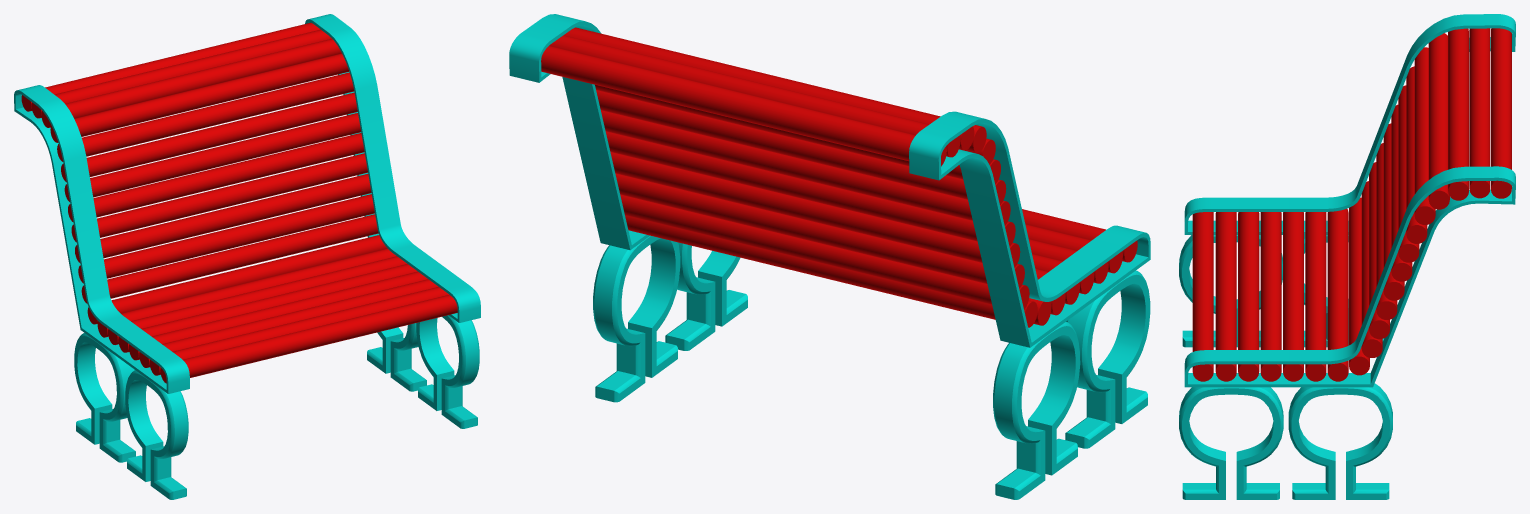
The model's file is BenchLowerCity.fbx.
3 renders of one model, left to right at view 1: azimuth 30°, elevation 25°; view 2: azimuth 150°, elevation 25°; view 3: azimuth 270°, elevation 25°, orthographic. The views are drawn at different scales.
Parts seen in each view (by area): view 1: Line008; view 2: Line008; view 3: Line008.
Part boxes in pixels (left/top/right/bottom): Line008: left=14, top=14, right=480, bottom=499; Line008: left=509, top=14, right=1150, bottom=499; Line008: left=1179, top=14, right=1515, bottom=499.
Bounding box in the file's own units: 141 × 130 × 122.
